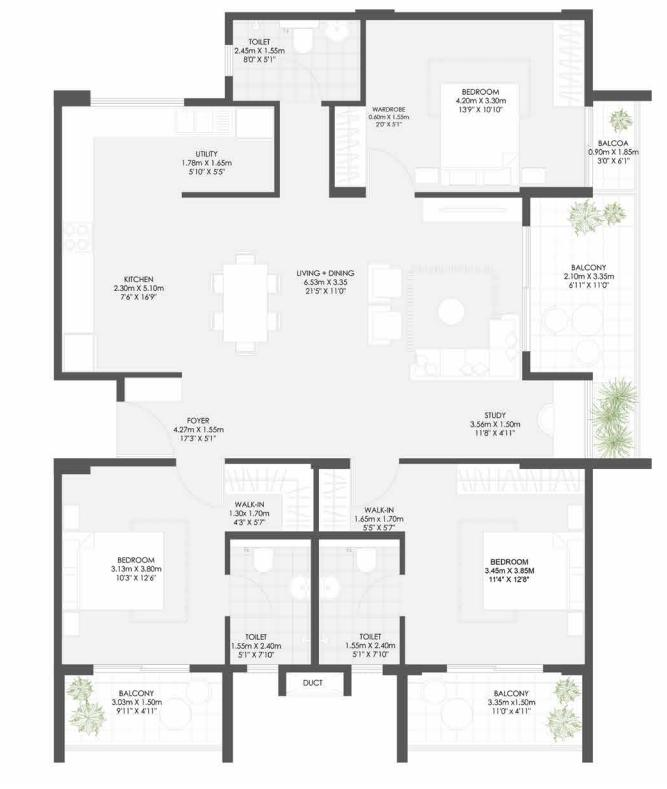Balcony: (530, 198, 638, 377), (404, 674, 582, 756), (67, 676, 223, 754), (593, 382, 638, 453)
Bed: (60, 527, 170, 611), (437, 85, 520, 194), (482, 534, 585, 609)
Bedroom: (367, 19, 587, 192), (411, 468, 583, 667), (62, 464, 222, 668)
Dining Room: (197, 201, 331, 386)
Dining table: (202, 250, 289, 365)
Foyer: (119, 382, 420, 462)
Kitchen: (63, 108, 193, 374)
Living Room: (331, 197, 524, 383)
Sofa: (410, 349, 517, 384), (367, 262, 411, 337), (487, 312, 519, 374), (439, 289, 465, 330)
Wardrobe: (455, 464, 583, 493), (550, 19, 588, 112), (332, 107, 370, 188), (225, 464, 315, 497), (284, 460, 316, 529)
balcoa: (589, 100, 638, 193)
commode: (252, 544, 277, 574), (357, 547, 380, 573)
door: (121, 403, 175, 459), (174, 465, 225, 510), (277, 56, 323, 105), (366, 155, 414, 201), (356, 575, 405, 620), (350, 463, 400, 507), (225, 573, 272, 619)
duct: (288, 673, 343, 698)
study: (424, 388, 586, 460)
toilet: (231, 21, 366, 103), (319, 542, 402, 666), (232, 540, 310, 670)
tv: (414, 194, 517, 225)
utility: (174, 104, 273, 196)
walkin: (224, 462, 314, 530), (320, 470, 406, 531)
